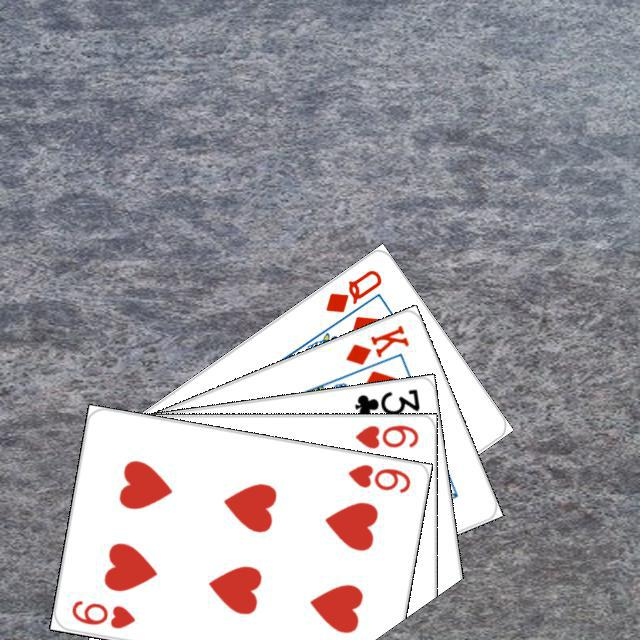3c: (349, 384, 421, 419)
6h: (66, 595, 137, 631), (343, 459, 412, 495), (350, 420, 420, 450)
Kd: (340, 320, 411, 367)
Qd: (320, 264, 384, 315)
